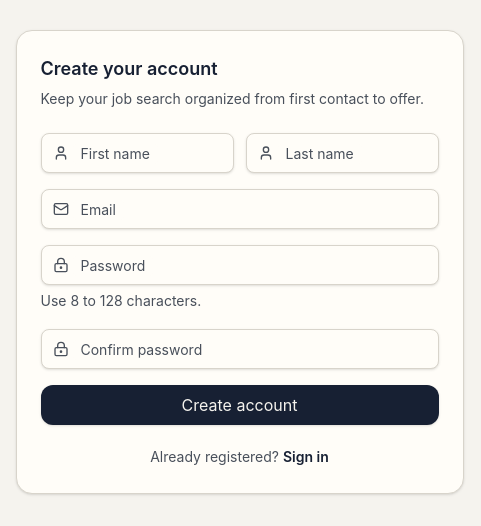
Scenario: register page › keeps password confirmation errors specific to the confirmation field
Type "candidate@example.com" into the field labelled "Email" at (240, 209), box [40,189,438,229]
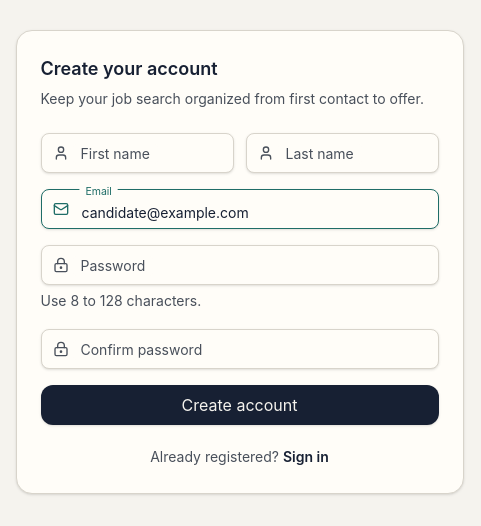
Type "password123" into the password field labelled "Password" at (240, 265), box [40,245,438,285]
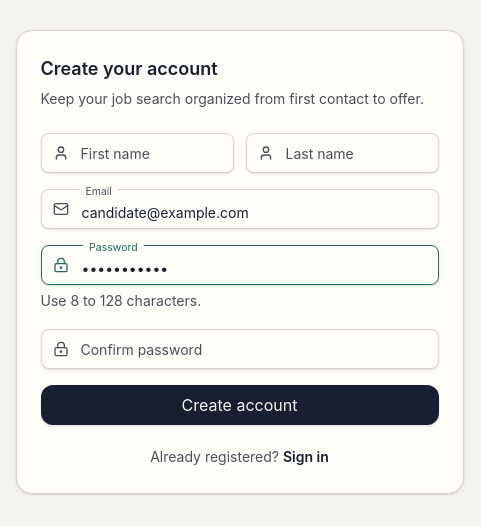
Type "another-password" into the password field labelled "Confirm password" at (240, 349), box [40,329,438,369]
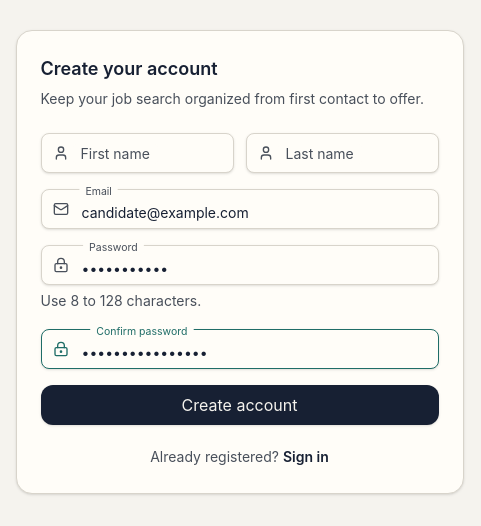
Submit the form named "Create account", box [40,133,438,425]
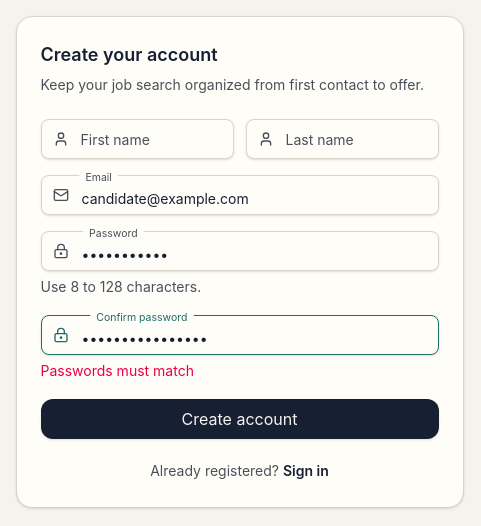
Expected: the text "Passwords must match" is shown, [40,362,194,379]
